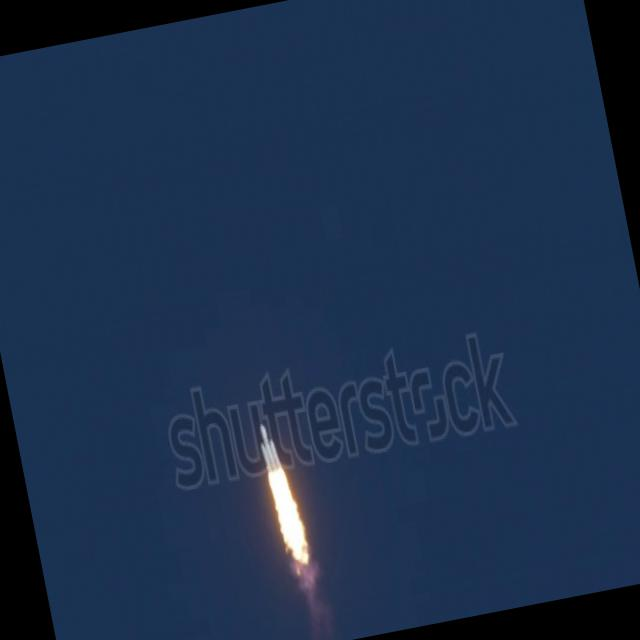rocket: (251, 422, 316, 576)
